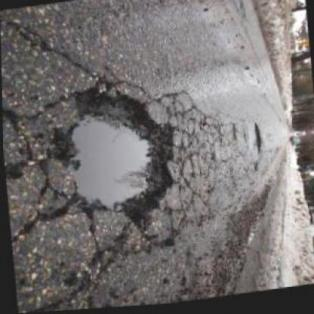Hueco: (41, 73, 186, 241), (252, 127, 264, 158)
